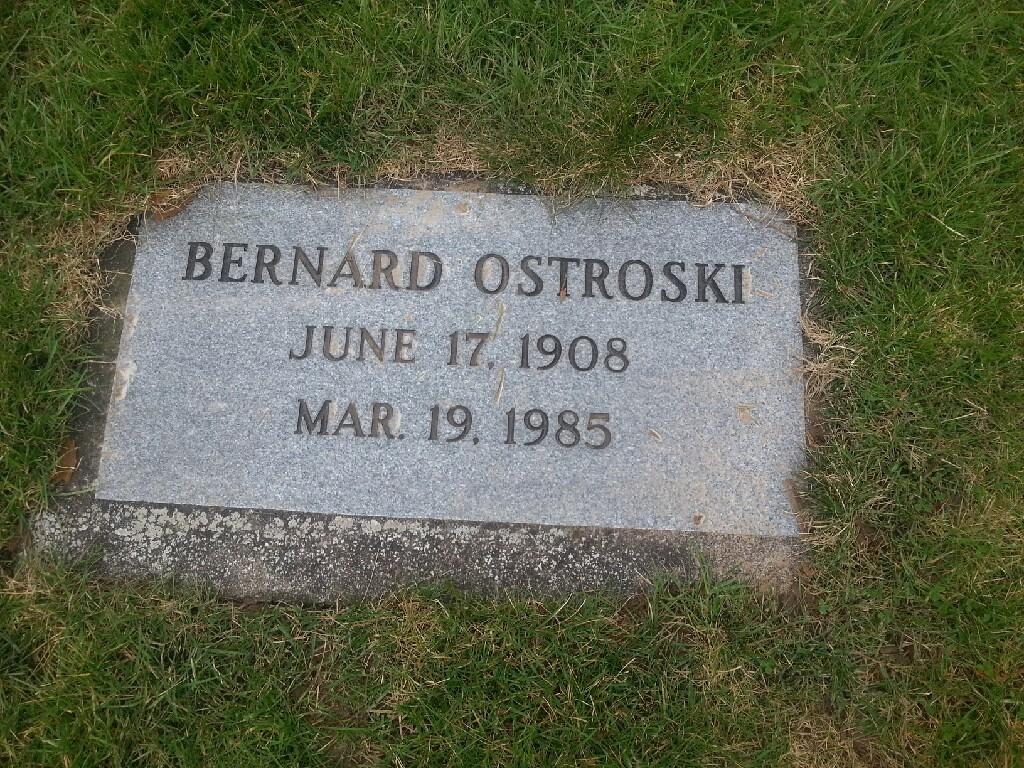flat: (106, 151, 814, 576)
